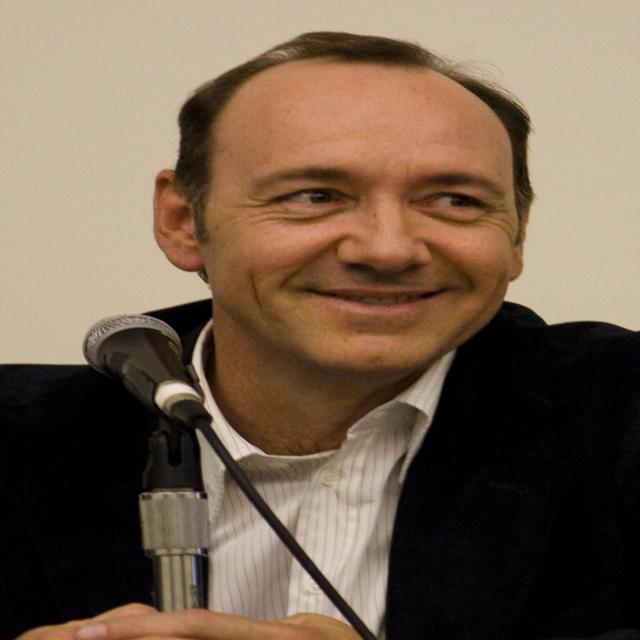no-earmuff: (137, 152, 227, 284), (506, 176, 544, 288)
